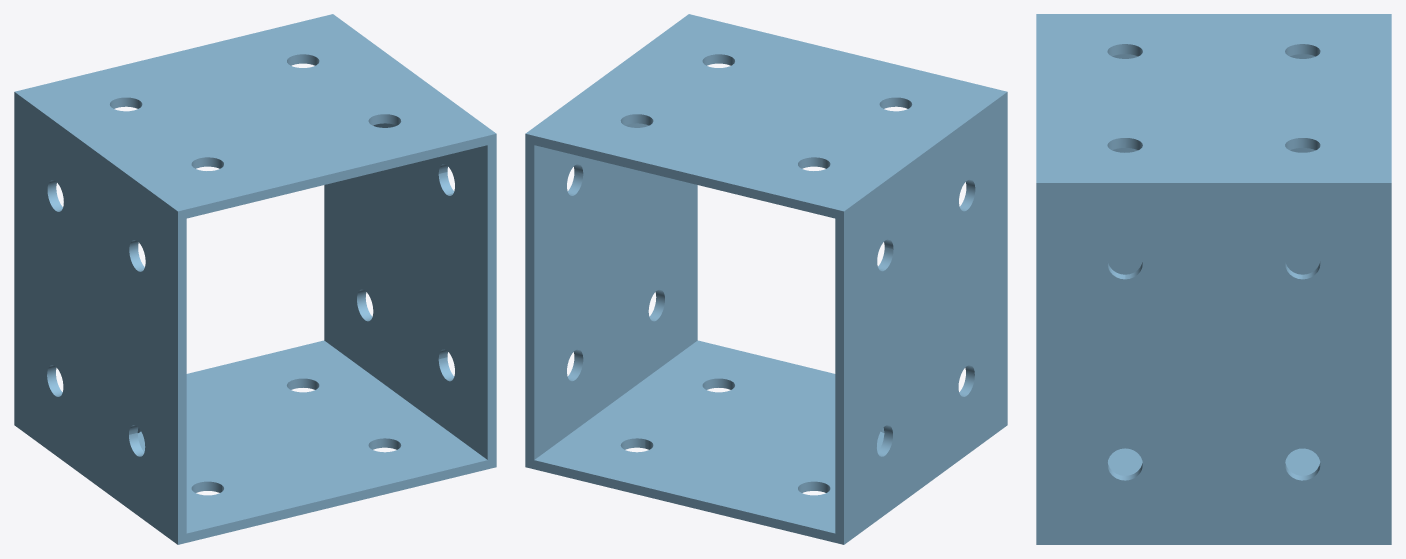
The picture shows the model from 3 angles, left to right: view 1: azimuth 30°, elevation 25°; view 2: azimuth 150°, elevation 25°; view 3: azimuth 270°, elevation 25°; orthographic projection. The views are drawn at different scales.
Visible parts, largest first — view 1: <组件#23>_1; view 2: <组件#23>_1; view 3: <组件#23>_1.
Part boxes in pixels (left/top/right/bottom): <组件#23>_1: left=14, top=14, right=496, bottom=544; <组件#23>_1: left=525, top=14, right=1007, bottom=544; <组件#23>_1: left=1036, top=14, right=1391, bottom=544.
Size of the model in its own units: 7.09 by 7.09 by 6.3.
